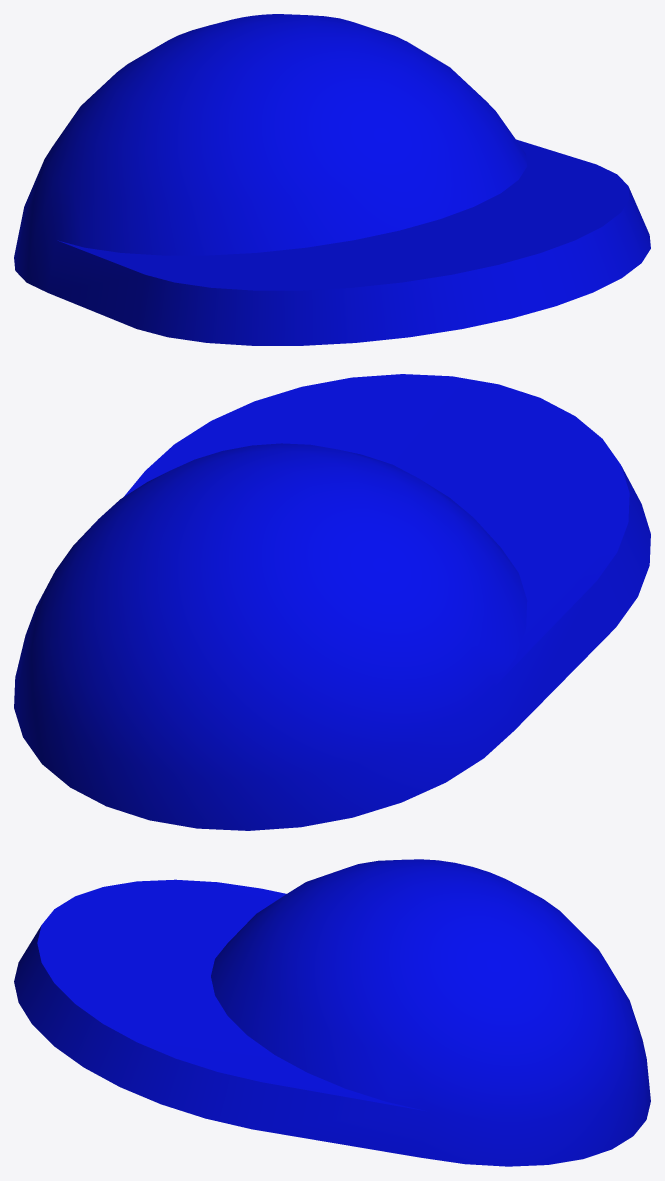
Rendered from bb_hat_blue.fbx.
3 views of the same model, one above another, from view 1: azimuth 30°, elevation 25°; view 2: azimuth 150°, elevation 25°; view 3: azimuth 270°, elevation 25° (orthographic). The views are drawn at different scales.
Visible parts, largest first — view 1: bb hat; view 2: bb hat; view 3: bb hat.
Part boxes in pixels (x1,y1,x2,y2): bb hat: (14,14,650,345); bb hat: (14,374,650,830); bb hat: (14,859,650,1166).
Size of the model in its own units: 111 by 55.58 by 145.
